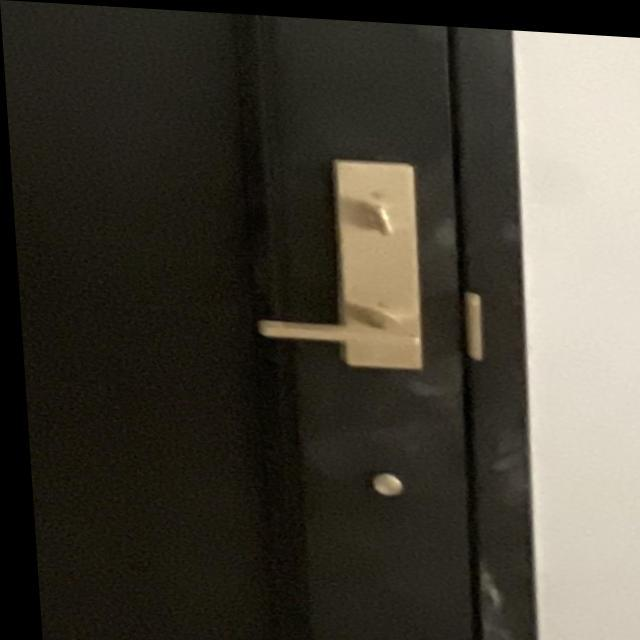door_handle: (233, 282, 441, 368)
